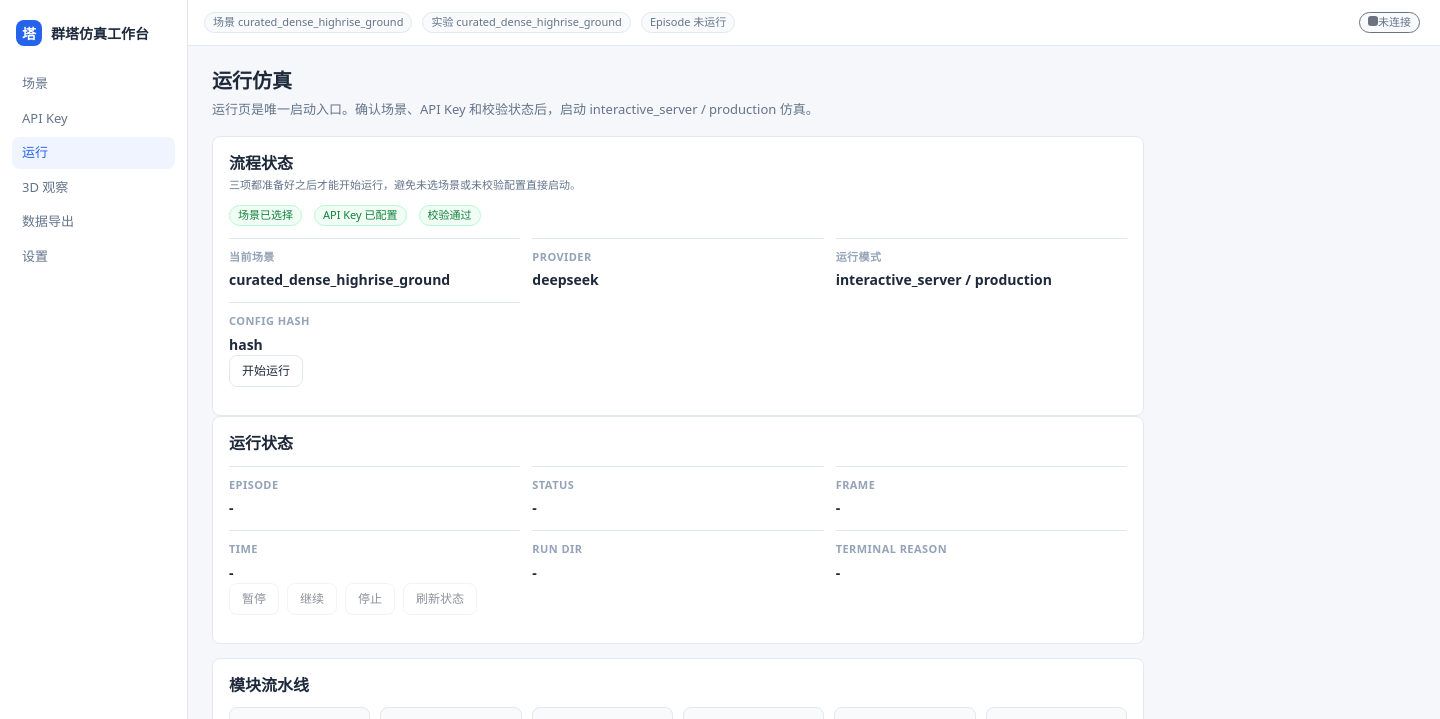
Test case: curated workbench flow › uses the run page as the only startup surface
expect the text "API Key 已配置" is shown: met, box top-left (314, 205), bottom-right (406, 226)
expect the text "场景已选择" is shown: met, box top-left (229, 205), bottom-right (302, 226)
Click the button "开始运行" at (266, 371), box top-left (229, 355), bottom-right (303, 387)
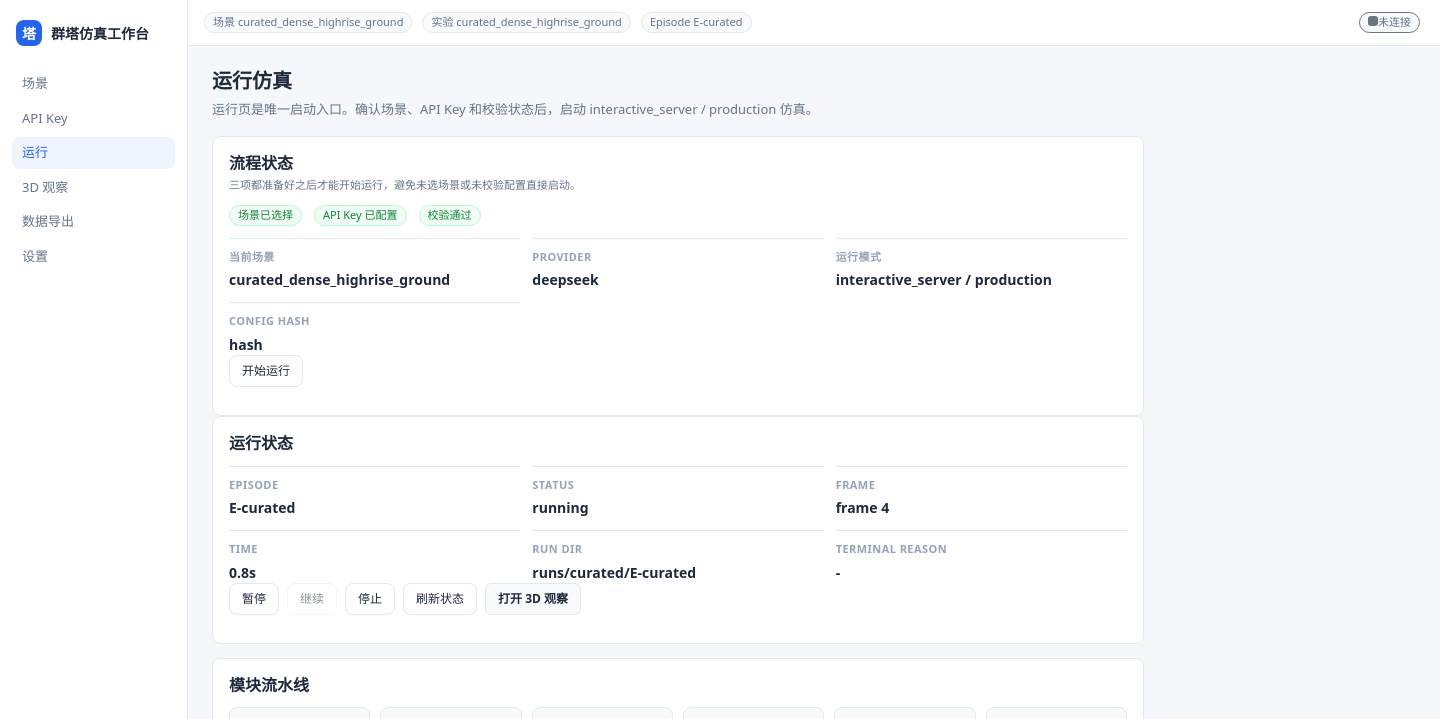
expect the text "E-curated" is shown: met, box top-left (229, 498), bottom-right (296, 517)
expect the link "打开 3D 观察" is shown: met, box top-left (485, 582), bottom-right (581, 614)
